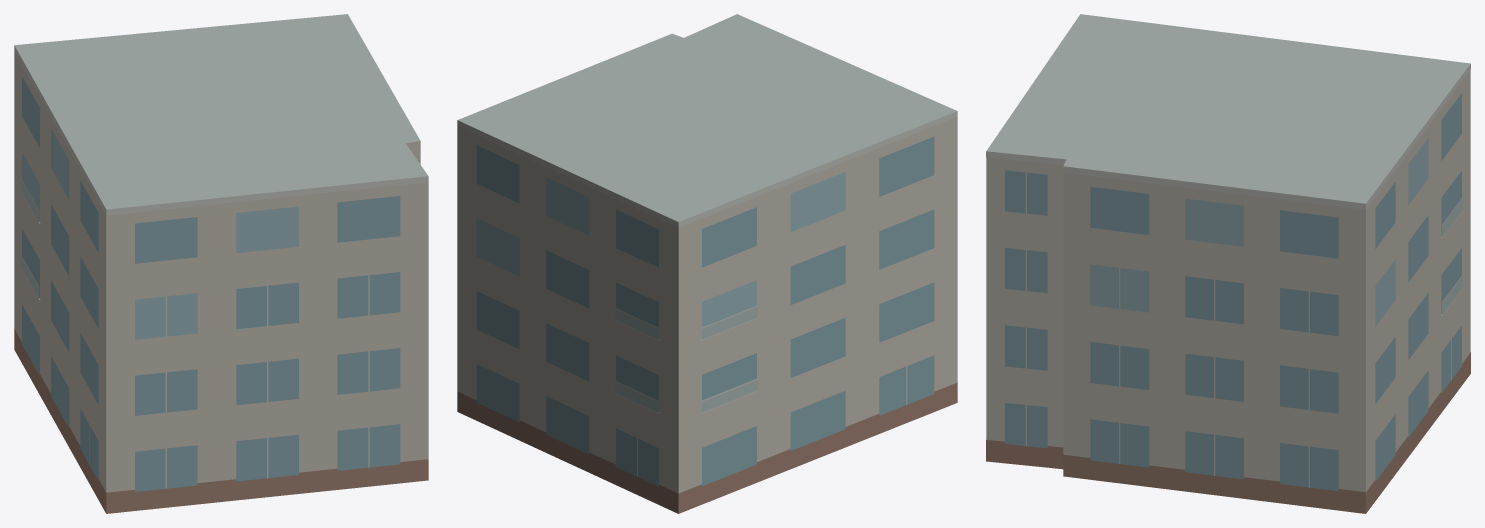
File: survey-upis-32981108.glb
The picture shows the model from 3 angles, left to right: view 1: azimuth 30°, elevation 25°; view 2: azimuth 150°, elevation 25°; view 3: azimuth 270°, elevation 25°; orthographic projection. The views are drawn at different scales.
Parts seen in each view (by area): view 1: survey-upis-32981108.tmp; view 2: survey-upis-32981108.tmp; view 3: survey-upis-32981108.tmp.
Part boxes in pixels (<box>): survey-upis-32981108.tmp: <box>14,14,428,513</box>; survey-upis-32981108.tmp: <box>457,14,957,513</box>; survey-upis-32981108.tmp: <box>986,14,1470,513</box>.
Bounding box in the file's own units: 16.41 × 12.5 × 17.71.
